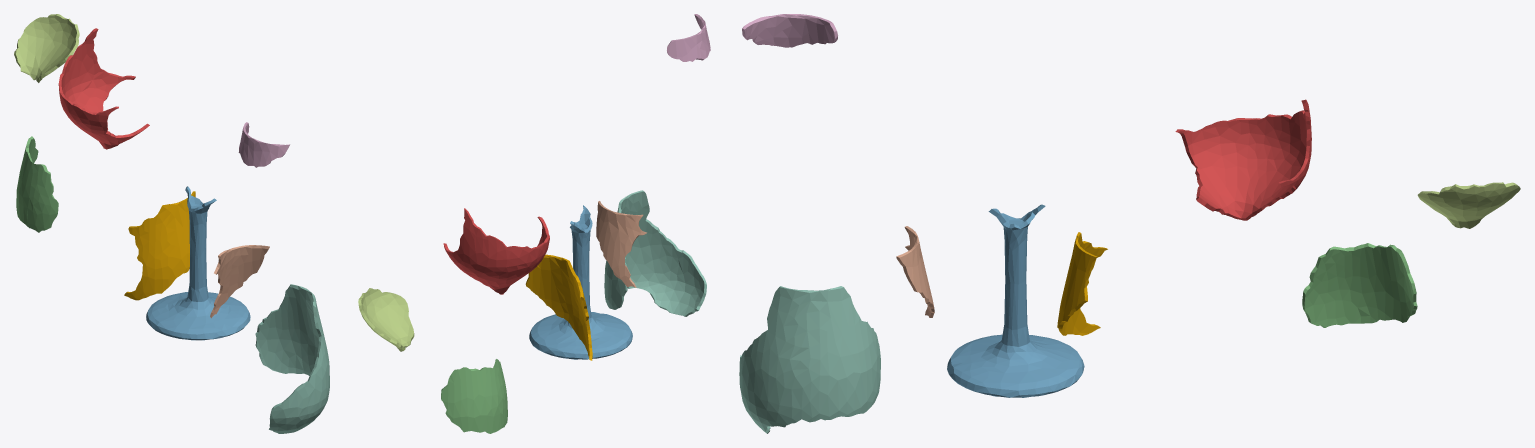
File: mode_13_8pcs_transformed.glb
The picture shows the model from 3 angles, left to right: view 1: azimuth 30°, elevation 25°; view 2: azimuth 150°, elevation 25°; view 3: azimuth 270°, elevation 25°; orthographic projection. The views are drawn at different scales.
Parts seen in each view (by area): view 1: piece_4.obj, piece_2.obj, piece_1.obj, piece_0.obj, piece_5.obj, piece_3.obj, piece_7.obj, piece_6.obj; view 2: piece_4.obj, piece_2.obj, piece_1.obj, piece_3.obj, piece_0.obj, piece_5.obj, piece_7.obj, piece_6.obj; view 3: piece_4.obj, piece_1.obj, piece_2.obj, piece_3.obj, piece_5.obj, piece_6.obj, piece_0.obj, piece_7.obj.
Boxes of the visible parts, x1=… form: piece_4.obj: x1=255, y1=284, x2=329, y2=433; piece_2.obj: x1=146, y1=186, x2=250, y2=340; piece_1.obj: x1=58, y1=28, x2=149, y2=149; piece_0.obj: x1=124, y1=191, x2=195, y2=300; piece_5.obj: x1=14, y1=14, x2=79, y2=82; piece_3.obj: x1=16, y1=136, x2=58, y2=232; piece_7.obj: x1=210, y1=245, x2=269, y2=318; piece_6.obj: x1=238, y1=122, x2=289, y2=167; piece_4.obj: x1=604, y1=190, x2=706, y2=316; piece_2.obj: x1=529, y1=205, x2=632, y2=359; piece_1.obj: x1=443, y1=208, x2=549, y2=294; piece_3.obj: x1=441, y1=359, x2=507, y2=433; piece_0.obj: x1=525, y1=254, x2=592, y2=360; piece_5.obj: x1=358, y1=288, x2=414, y2=351; piece_7.obj: x1=596, y1=201, x2=646, y2=287; piece_6.obj: x1=667, y1=14, x2=710, y2=61; piece_4.obj: x1=739, y1=286, x2=880, y2=433; piece_1.obj: x1=1175, y1=99, x2=1311, y2=220; piece_2.obj: x1=947, y1=204, x2=1084, y2=397; piece_3.obj: x1=1302, y1=243, x2=1417, y2=327; piece_5.obj: x1=1417, y1=182, x2=1520, y2=228; piece_6.obj: x1=742, y1=14, x2=837, y2=47; piece_0.obj: x1=1057, y1=232, x2=1107, y2=335; piece_7.obj: x1=896, y1=226, x2=934, y2=317.
Size of the model in its own units: 0.3821 by 1.16 by 2.09.
